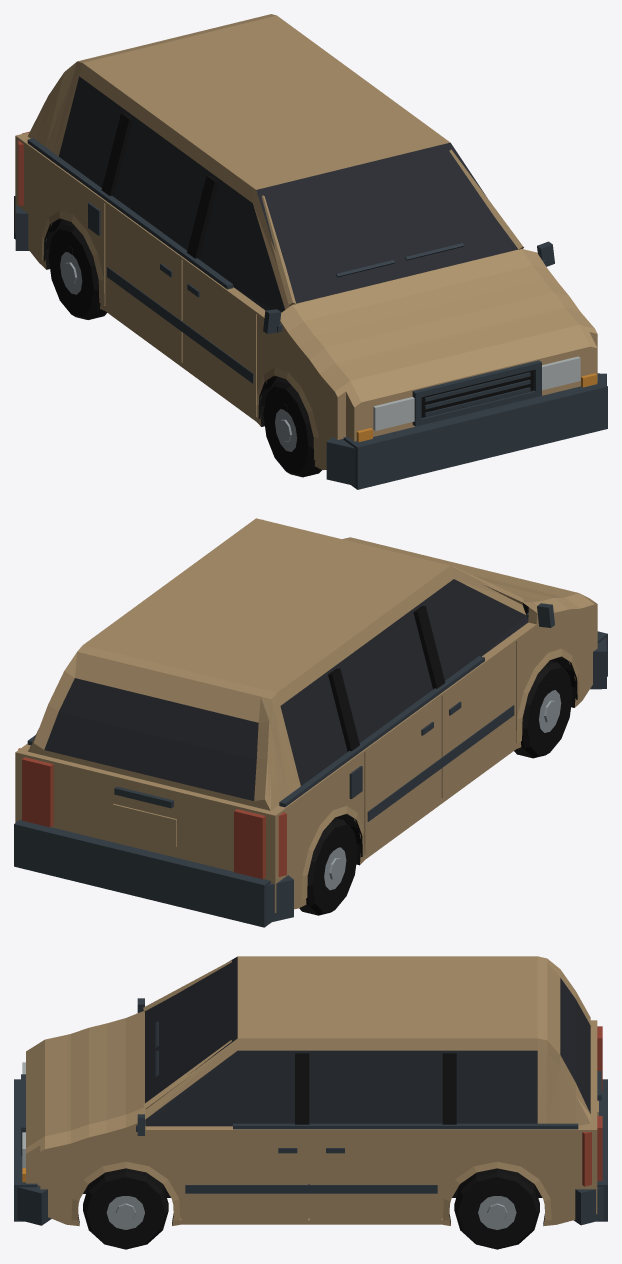
File: family-minivan-924de0.glb
3 views of the same model, one above another, from view 1: azimuth 30°, elevation 25°; view 2: azimuth 150°, elevation 25°; view 3: azimuth 270°, elevation 25° (orthographic). The views are drawn at different scales.
Visible parts, largest first — view 1: family-minivan-924de0; view 2: family-minivan-924de0; view 3: family-minivan-924de0.
Part boxes in pixels (left/top/right/bottom): family-minivan-924de0: left=14, top=14, right=607, bottom=489; family-minivan-924de0: left=14, top=518, right=607, bottom=927; family-minivan-924de0: left=14, top=956, right=607, bottom=1249.
Size of the model in its own units: 2.41 by 1.84 by 4.99.
